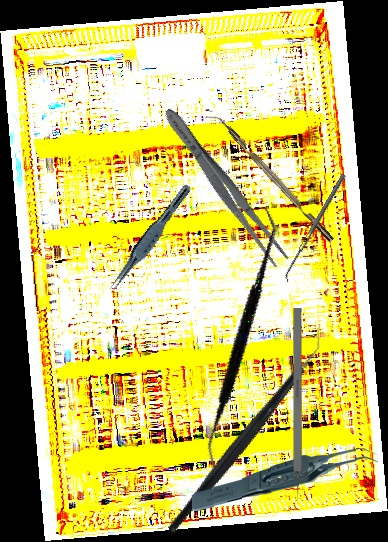Chopper: (118, 324, 372, 536), (205, 107, 334, 249)
Dressing Forceps: (157, 103, 292, 270)
Hook Surgical: (293, 308, 302, 510)
Spatula Surgical: (141, 207, 338, 469), (281, 173, 350, 284)
Tissue Forceps: (190, 447, 380, 513), (105, 179, 193, 298)
